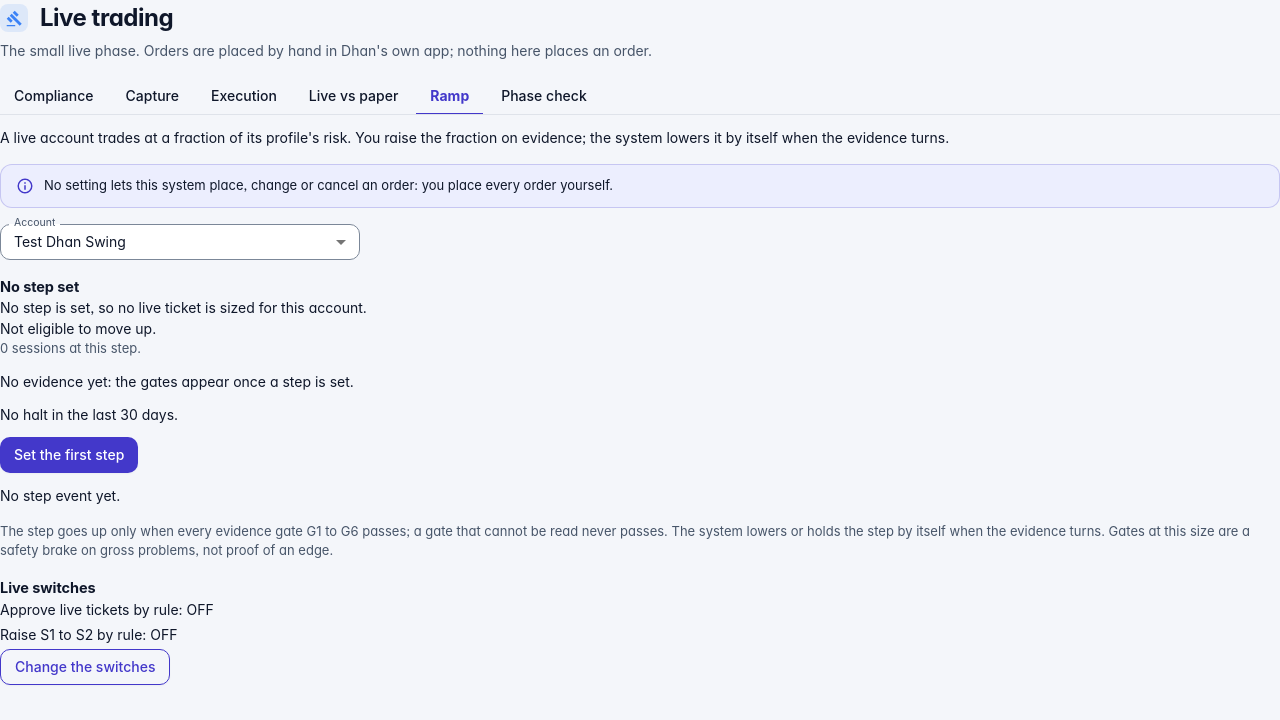
it: the Ramp tab › shows a wrong password as an answer and keeps the dialog open
Click the button "Set the first step" at (69, 455), box [0, 437, 138, 473]
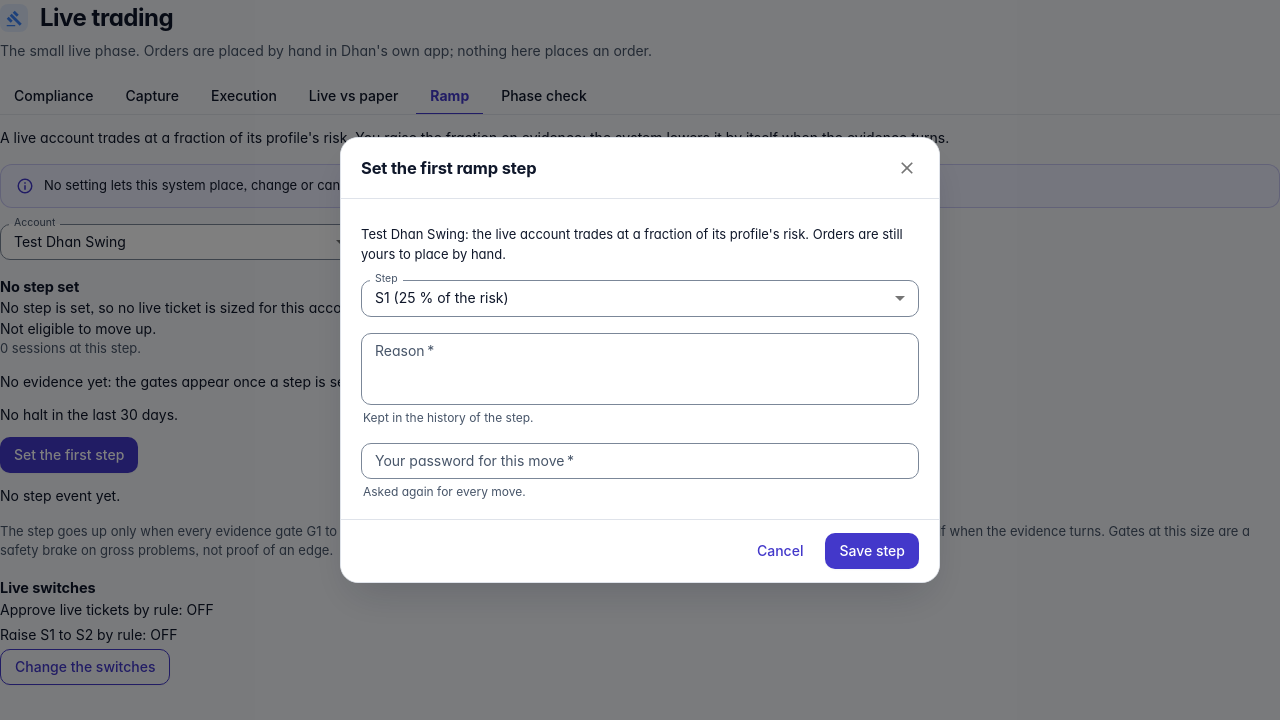
Type "x" into the text box labelled "Reason *" at (640, 368), box [375, 340, 905, 396]
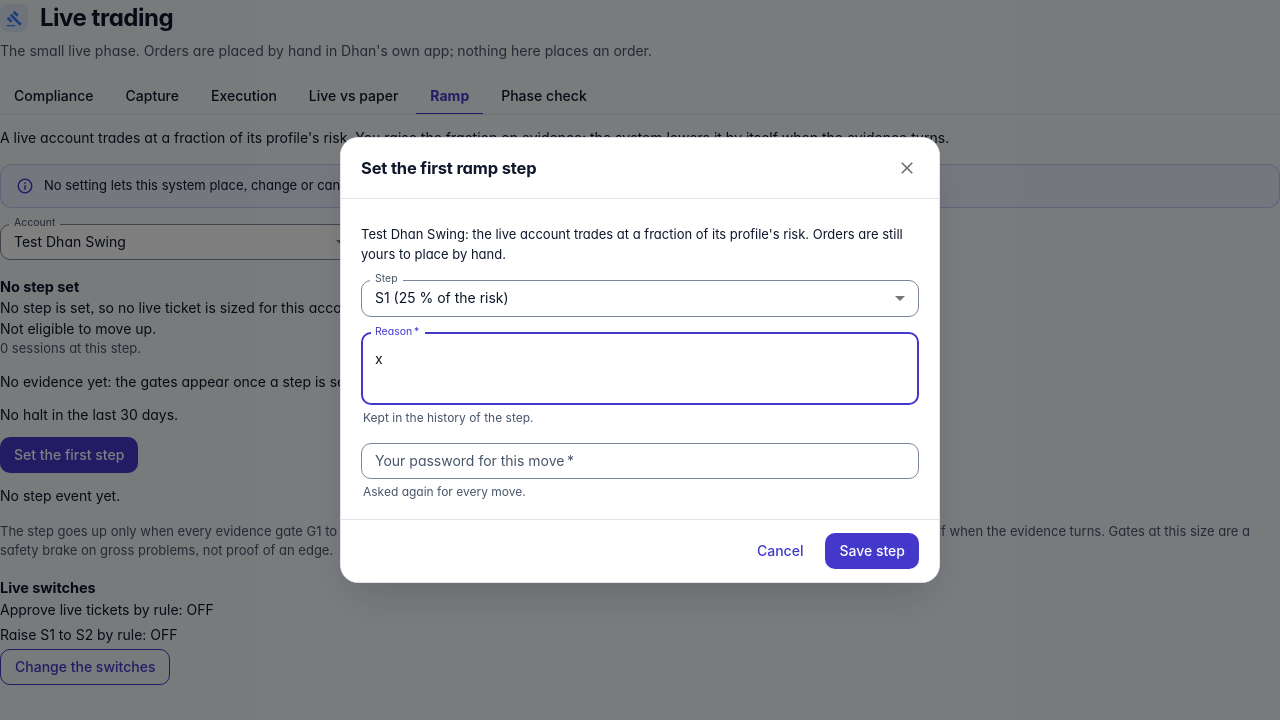
Type "nope" into the password field labelled "Your password for this move *" at (640, 461), box [361, 442, 919, 479]
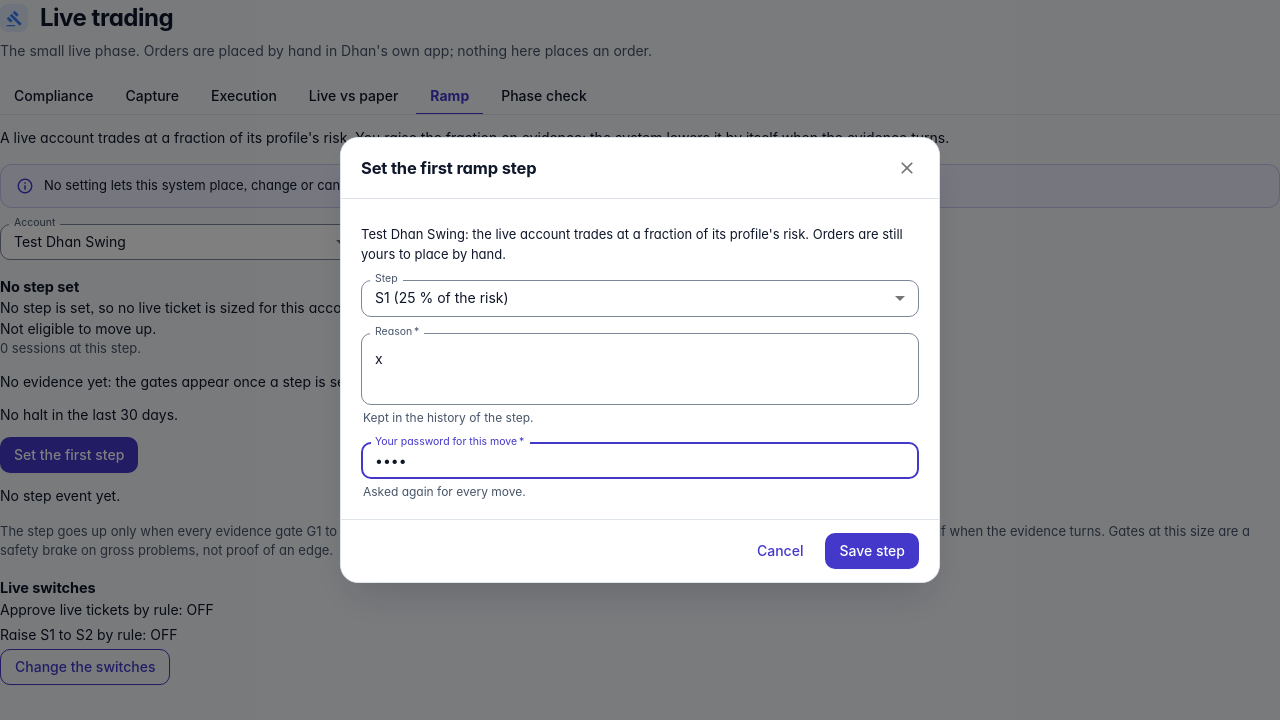
Click the button "Save step" at (872, 551), box [825, 533, 919, 569]
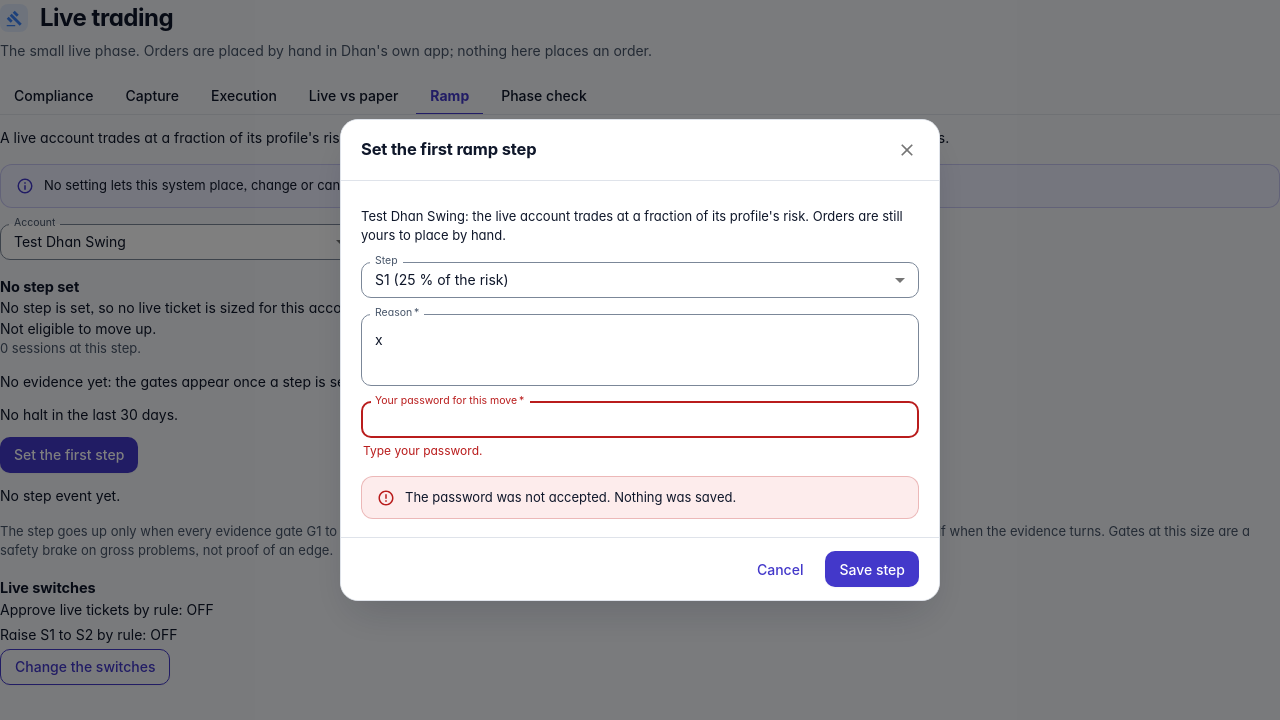
expect the text "The password was not accepted. Nothing was saved." is shown: met, box [405, 488, 736, 507]
expect the password field labelled "Your password for this move *" is empty: met, box [361, 402, 919, 438]
